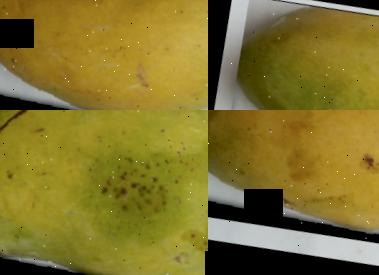PartiallyRipe: (0, 110, 208, 275), (208, 0, 379, 110)
Ripe: (208, 110, 379, 274), (0, 0, 208, 110)
